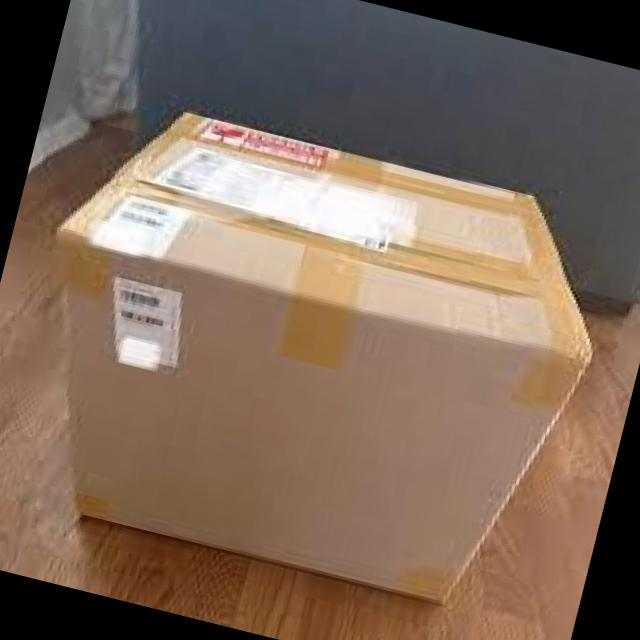box: (58, 111, 592, 606)
